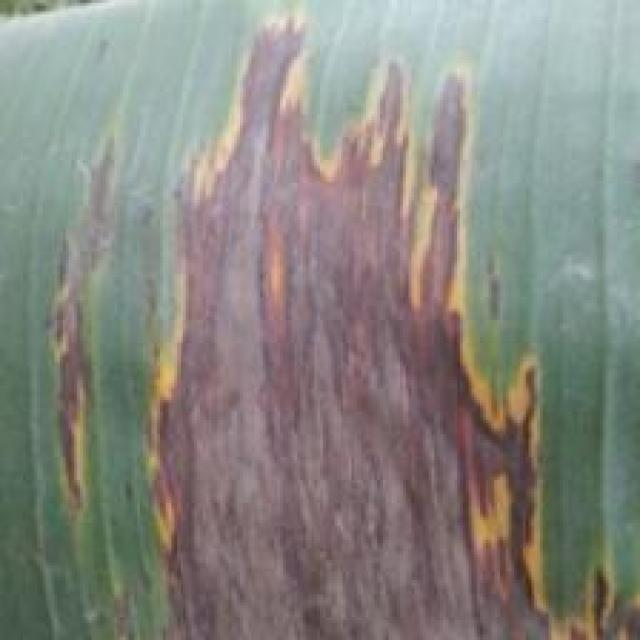Early_leaf_spot: (128, 10, 640, 640), (40, 141, 130, 518)
